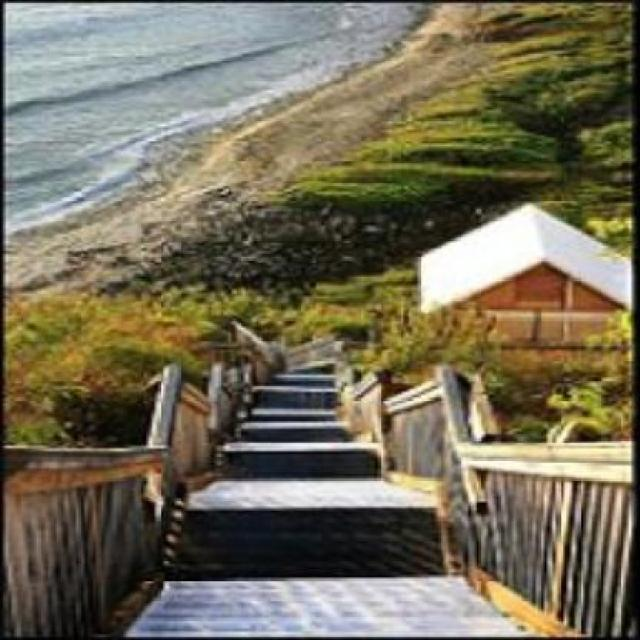stair: (116, 463, 547, 640)
